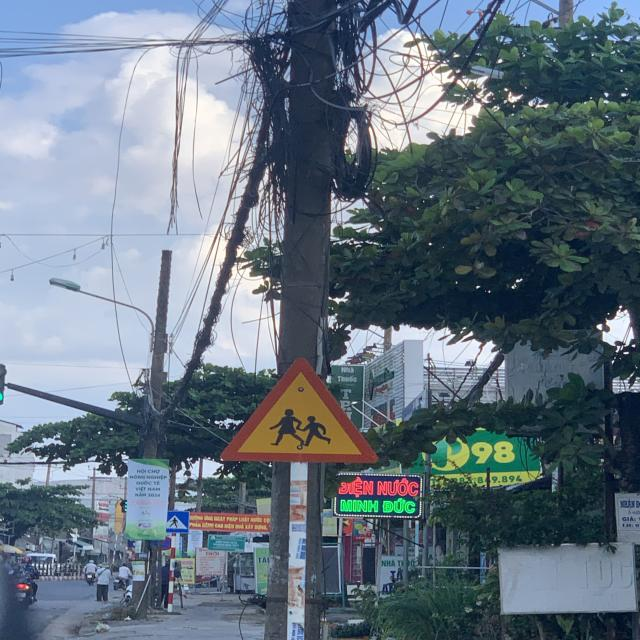Vong_Xuyen: (216, 357, 374, 462)
